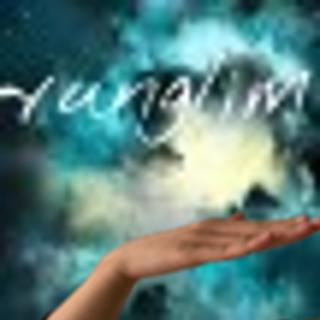WAIT: (110, 204, 320, 280)
